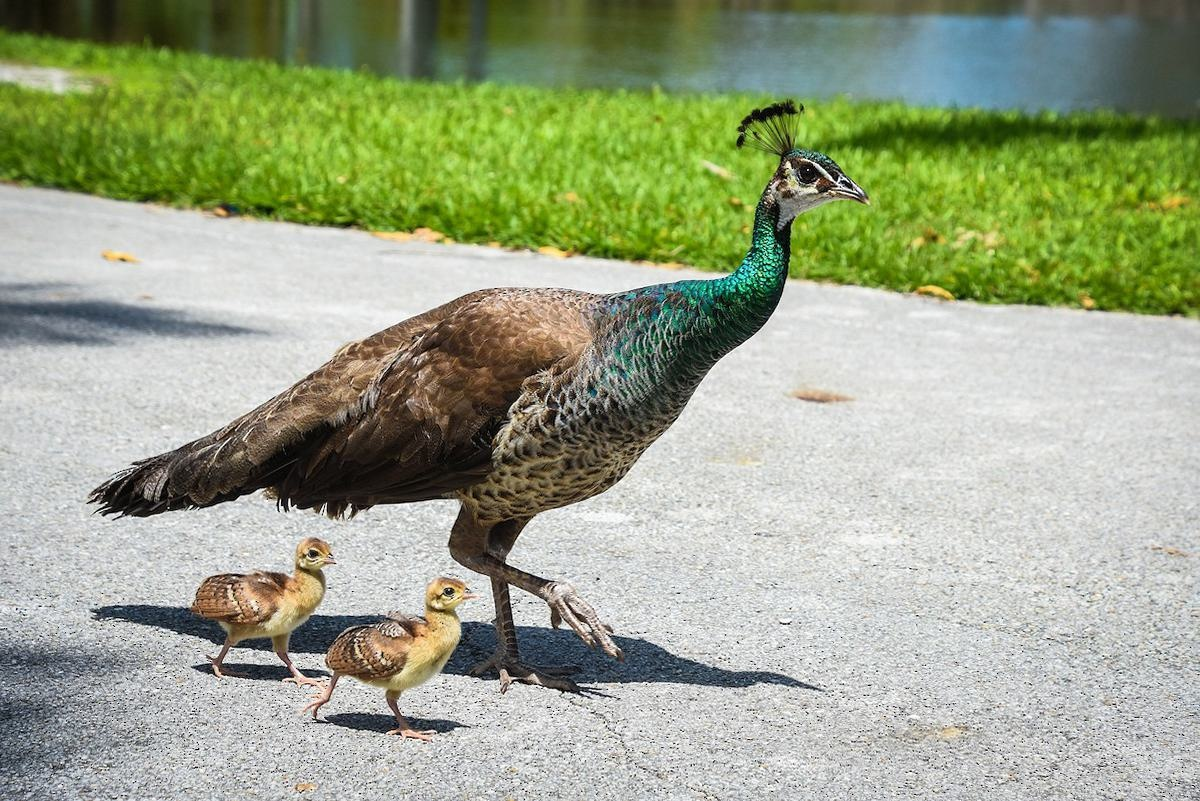peacock: (158, 71, 973, 561)
